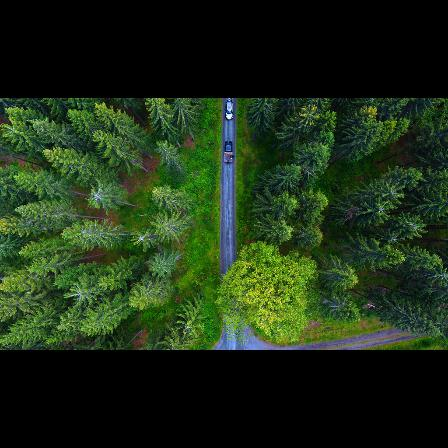Sick: (88, 182, 111, 212), (378, 178, 404, 202), (129, 224, 154, 248), (424, 264, 448, 287), (403, 217, 427, 237), (383, 228, 399, 249), (373, 202, 387, 217)
